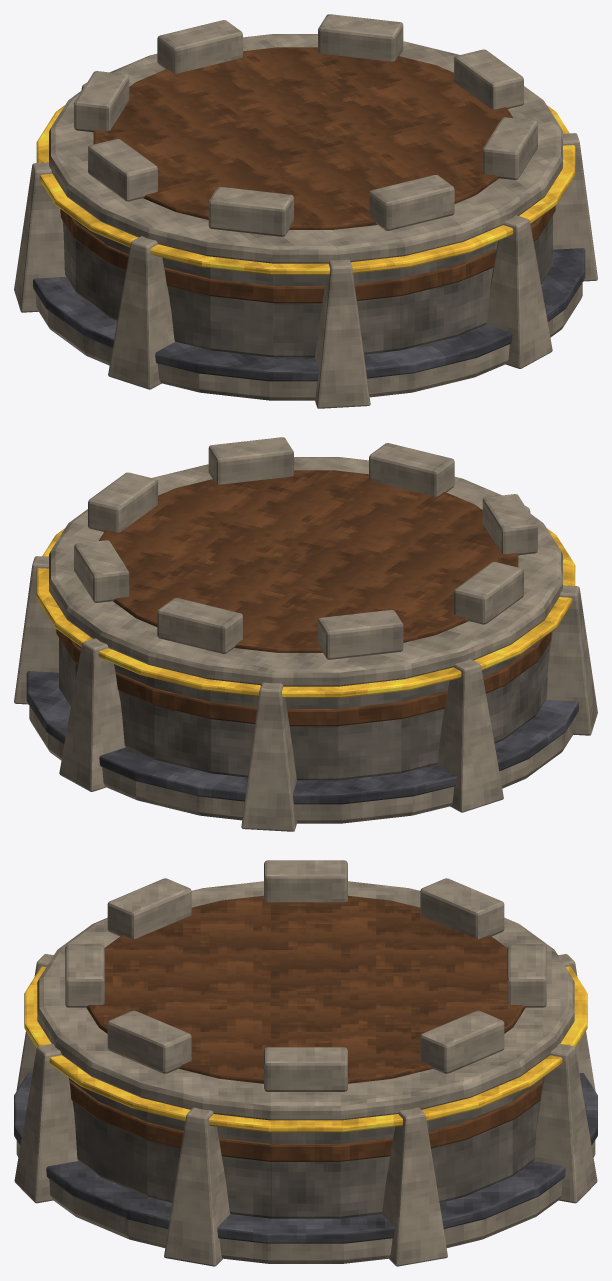
The model's file is base_round.gltf.
3 views of the same model, one above another, from view 1: azimuth 30°, elevation 25°; view 2: azimuth 150°, elevation 25°; view 3: azimuth 270°, elevation 25° (orthographic). The views are drawn at different scales.
Visible parts, largest first — view 1: base_round_wood, Tier3_stone_lite, base_round_stone_lite, base_round_stone, Tier2_iron, Tier4_gold; view 2: base_round_wood, Tier3_stone_lite, base_round_stone_lite, base_round_stone, Tier2_iron, Tier4_gold; view 3: base_round_wood, Tier3_stone_lite, base_round_stone_lite, base_round_stone, Tier2_iron, Tier4_gold.
Boxes of the visible parts, x1,y1,x2,y2 form: base_round_wood: (60,47,555,303); Tier3_stone_lite: (14,14,597,408); base_round_stone_lite: (35,34,582,400); base_round_stone: (62,215,552,357); Tier2_iron: (33,248,585,381); Tier4_gold: (36,105,575,274); base_round_wood: (56,470,551,726); Tier3_stone_lite: (14,437,597,831); base_round_stone_lite: (29,457,576,823); base_round_stone: (59,638,549,780); Tier2_iron: (26,671,578,804); Tier4_gold: (36,528,575,697); base_round_wood: (69,895,542,1161); Tier3_stone_lite: (14,860,597,1266); base_round_stone_lite: (16,881,595,1263); base_round_stone: (69,1078,542,1218); Tier2_iron: (14,1073,597,1243); Tier4_gold: (24,955,587,1132).
Bounding box in the file's own units: 1.04 × 0.36 × 1.04.
Materials: 6 (6 with a texture image).
